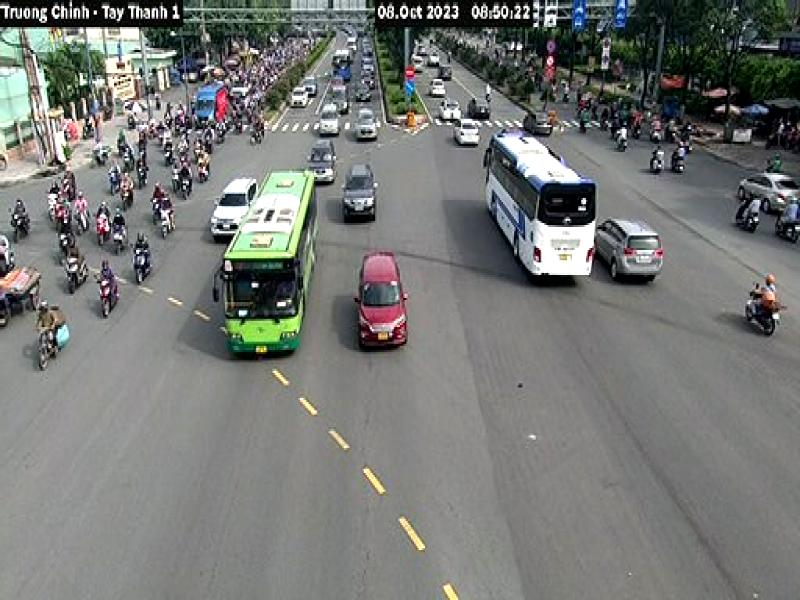bus: (208, 165, 318, 385), (471, 126, 603, 305)
car: (592, 197, 666, 301), (352, 246, 414, 361), (731, 158, 799, 220), (207, 169, 256, 243), (340, 158, 384, 229), (307, 134, 338, 193), (350, 106, 385, 146), (312, 100, 343, 143), (434, 92, 466, 128), (329, 79, 353, 118), (349, 75, 376, 108), (465, 90, 495, 119), (427, 72, 451, 102), (447, 112, 474, 138)
motorcycle: (724, 280, 791, 335)
